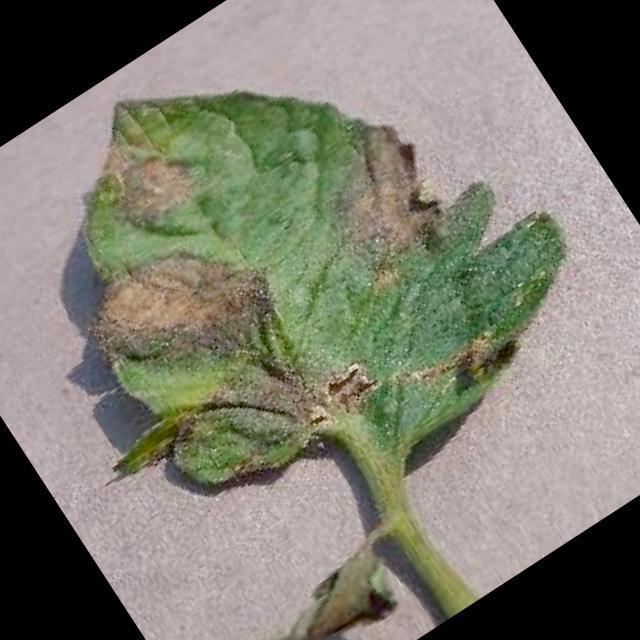Tomato late blight leaf: (0, 0, 621, 593)
